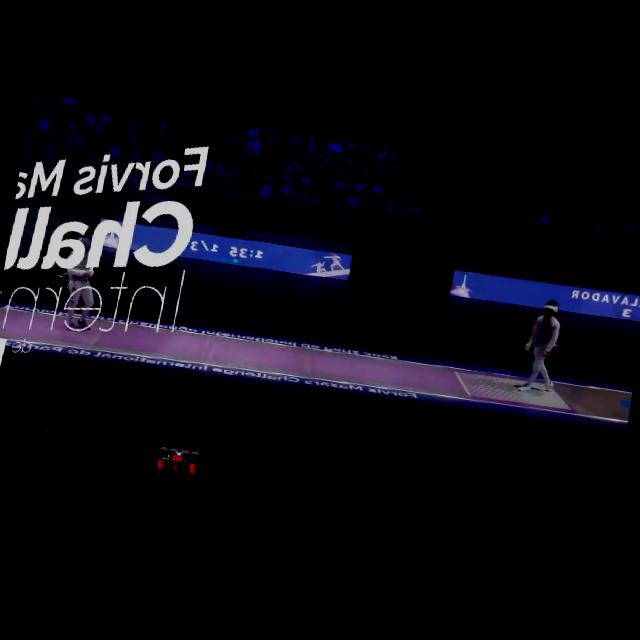blade: (513, 340, 534, 366)
